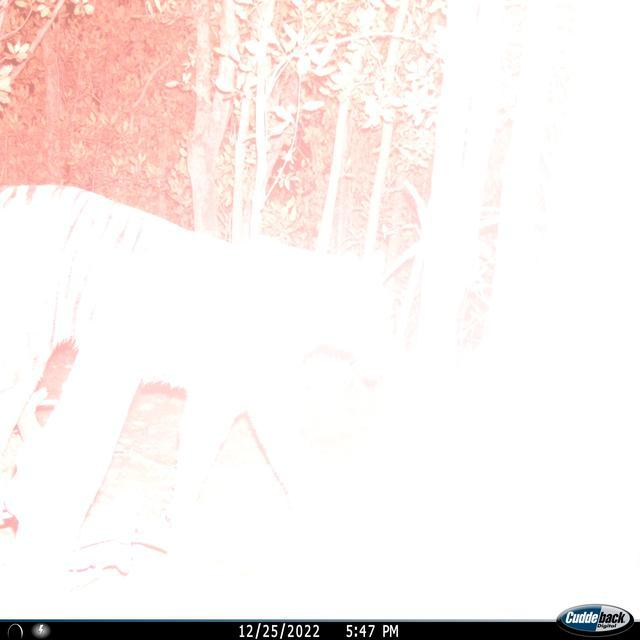tiger: (0, 181, 412, 576)
